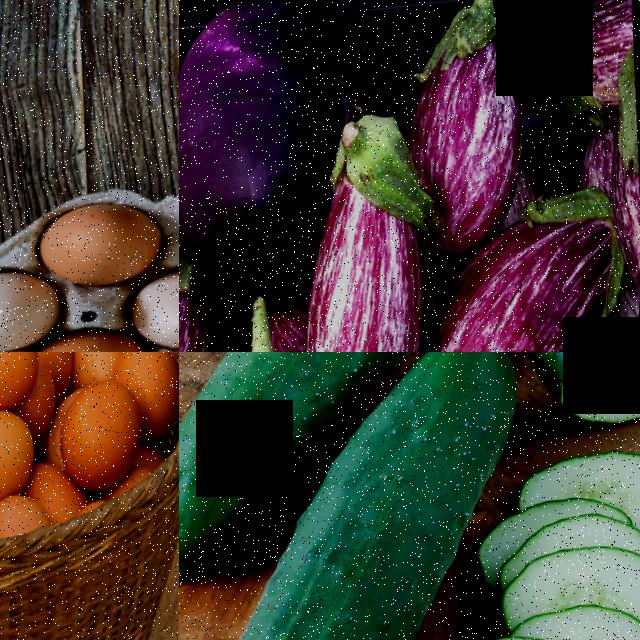cucumber: (179, 352, 557, 640), (179, 352, 302, 586), (505, 352, 640, 432)
egg_: (35, 189, 174, 290), (52, 366, 159, 493), (0, 262, 69, 352), (0, 396, 49, 501), (126, 352, 179, 437), (32, 318, 160, 352), (134, 257, 179, 347), (0, 352, 50, 411)
eggplant: (386, 0, 542, 241), (419, 188, 640, 352), (282, 148, 459, 352)
